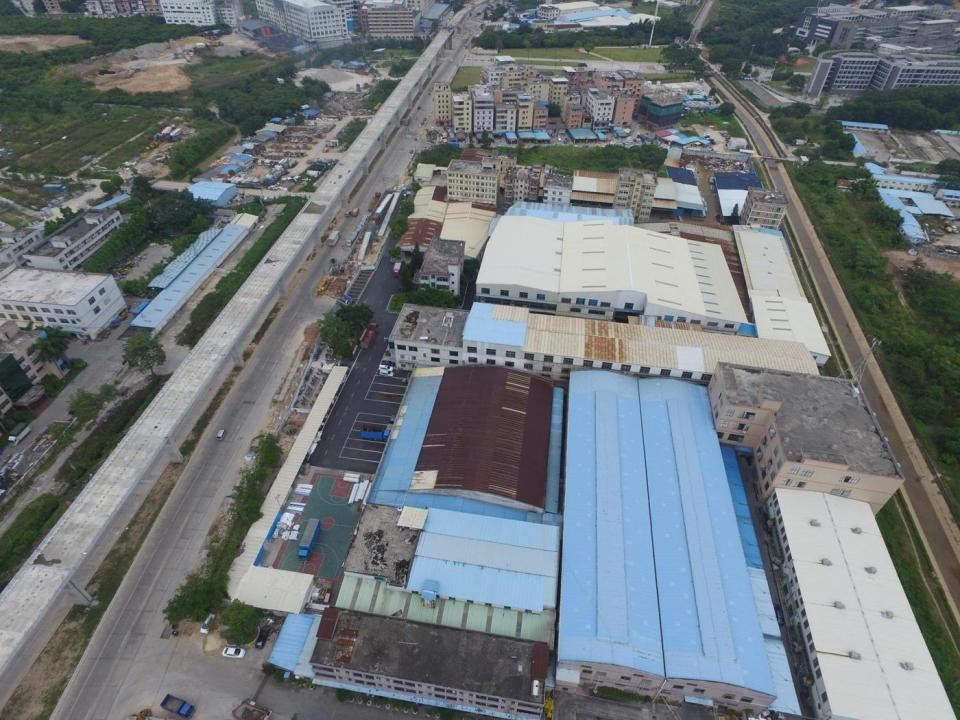bus: (404, 115, 412, 126), (463, 36, 468, 43)
car: (255, 625, 272, 649), (200, 613, 216, 635), (222, 647, 246, 659), (377, 364, 394, 372), (379, 369, 394, 378), (399, 284, 412, 291), (381, 360, 395, 366), (384, 350, 396, 357), (308, 122, 316, 126), (409, 148, 414, 154), (422, 118, 428, 121), (421, 122, 425, 126), (418, 124, 421, 128), (418, 106, 421, 109)
truck: (297, 517, 322, 562), (159, 693, 197, 719), (8, 421, 32, 447), (360, 424, 392, 441), (360, 322, 378, 350), (367, 190, 381, 212), (153, 124, 171, 140), (42, 184, 68, 194), (158, 125, 174, 141), (166, 128, 182, 143), (327, 230, 341, 246), (392, 262, 403, 277), (352, 207, 360, 217), (172, 135, 182, 142)
van: (215, 428, 227, 441)
